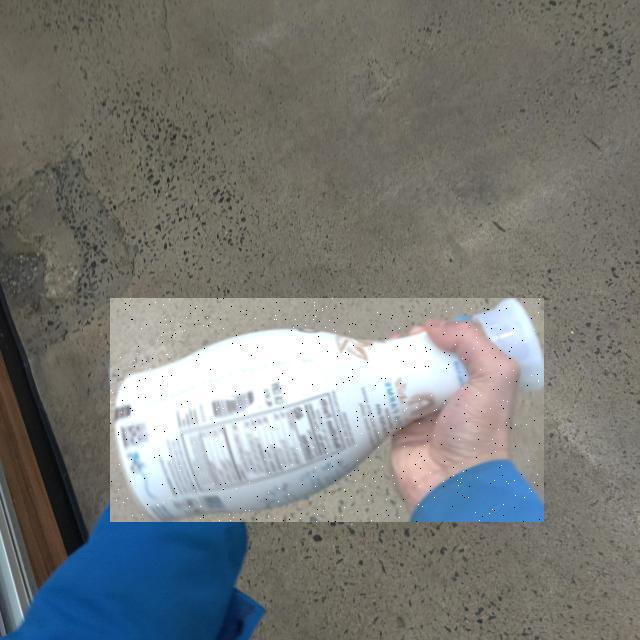Milk: (110, 299, 544, 523)
